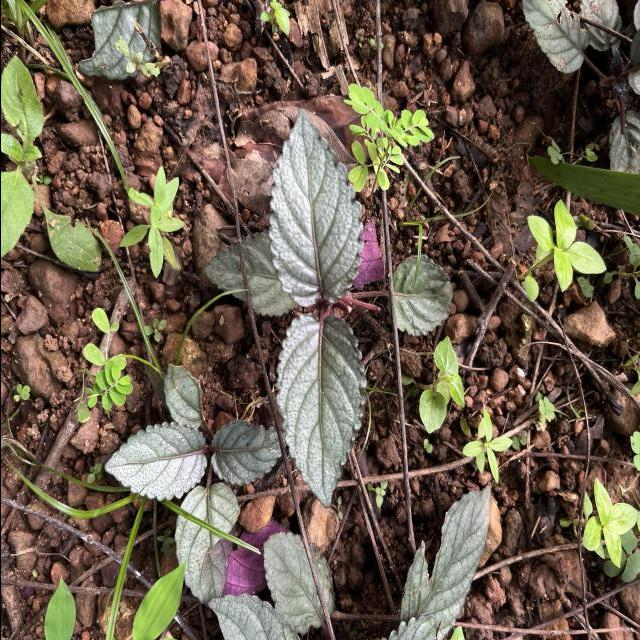Hemigraphis colorata: (266, 102, 366, 309), (272, 310, 367, 510), (397, 482, 492, 640), (172, 481, 242, 611), (102, 419, 208, 503), (261, 530, 336, 636), (384, 252, 454, 340), (208, 417, 286, 487)
